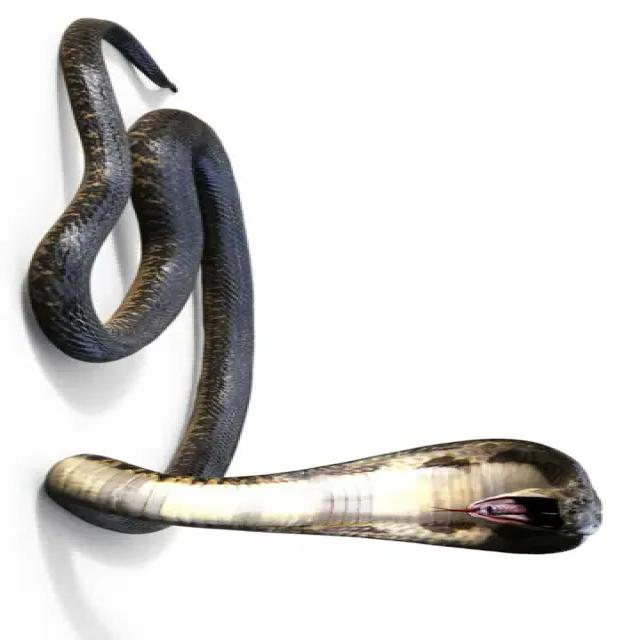Venomous: (245, 400, 640, 571)
